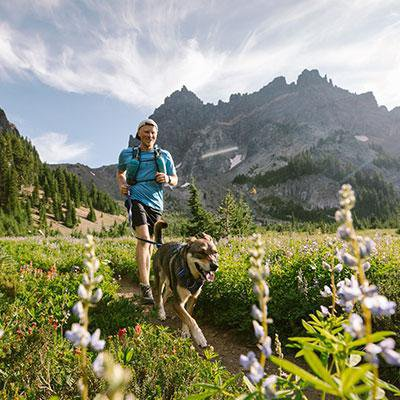dog: (141, 218, 240, 359)
